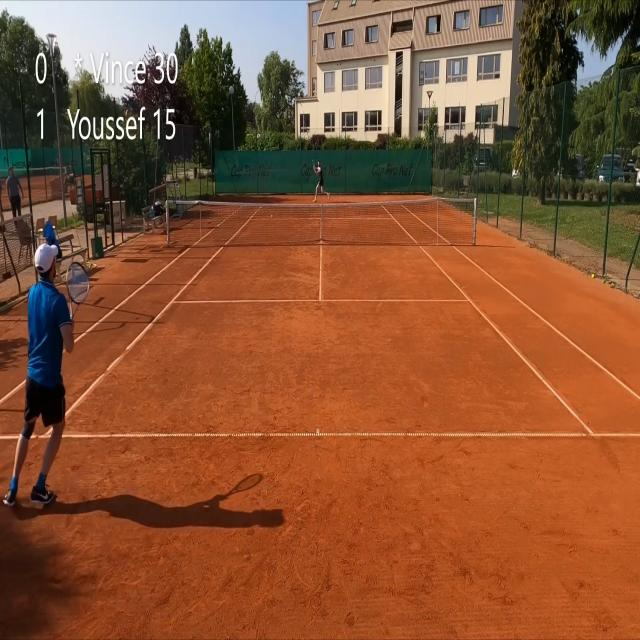ball: (271, 215, 273, 218)
